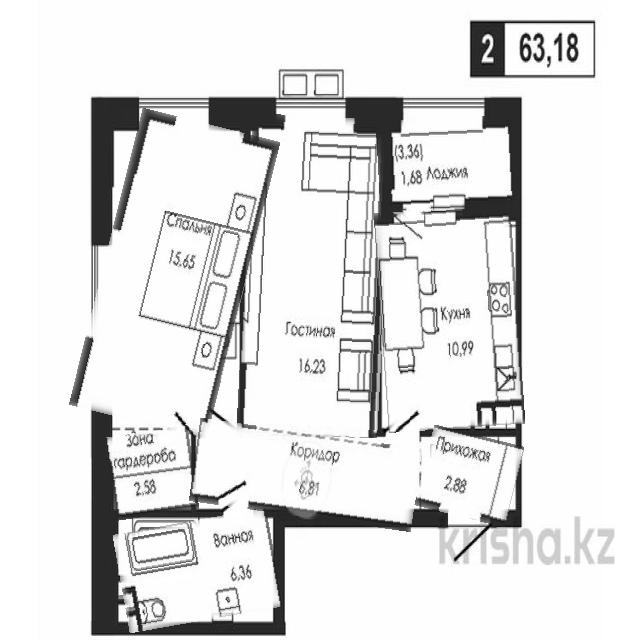bathroom: (116, 515, 280, 627)
hallway: (192, 426, 420, 524), (377, 116, 519, 211), (419, 429, 520, 522)
kitchen: (377, 207, 522, 431)
living_room: (86, 115, 263, 433), (240, 114, 389, 437)
other: (106, 429, 196, 519)
